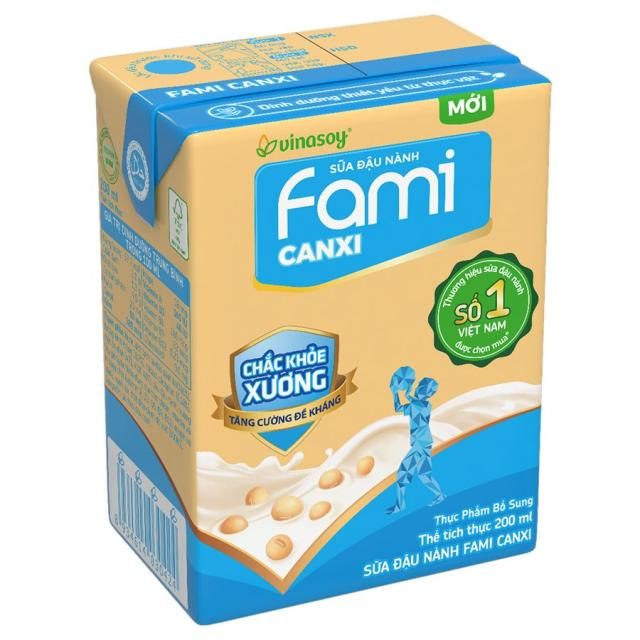Fami: (99, 15, 554, 628)
